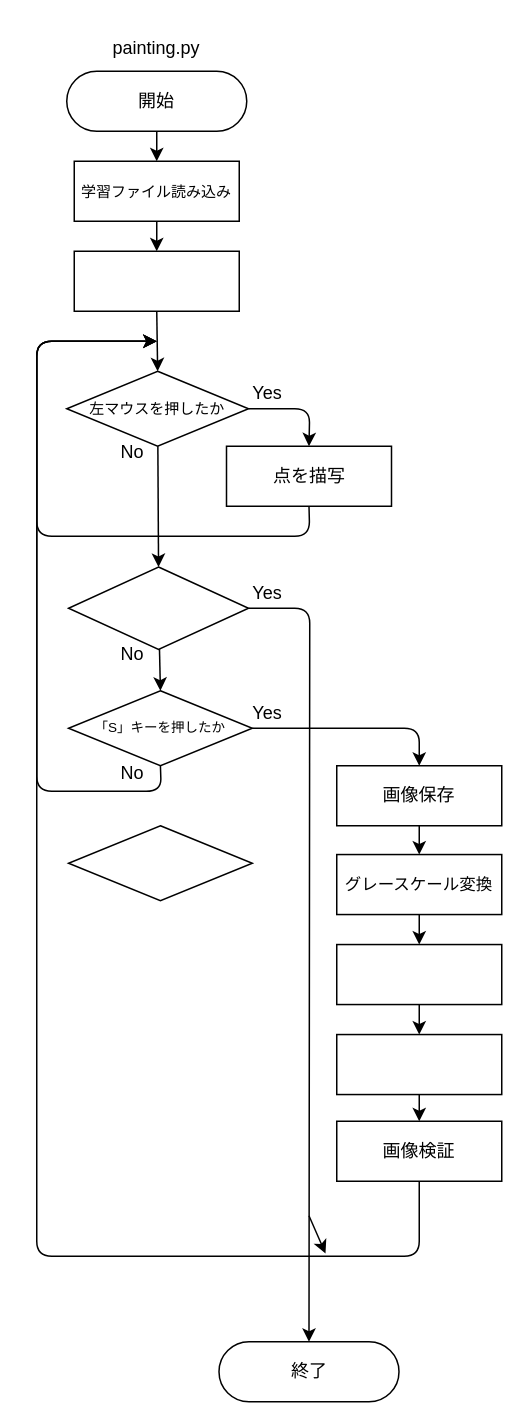
This 528x1428 diagram has some shape labels left out. Each missing label, with the box of its shape:
「Delete」キーを押したか: (67, 824, 252, 901)
「Q」キー、または 「×」ボタンを押したか: (67, 566, 249, 650)
二値化処理: (335, 943, 502, 1005)
画像更新: (335, 1033, 502, 1095)
画面表示: (73, 250, 239, 311)
